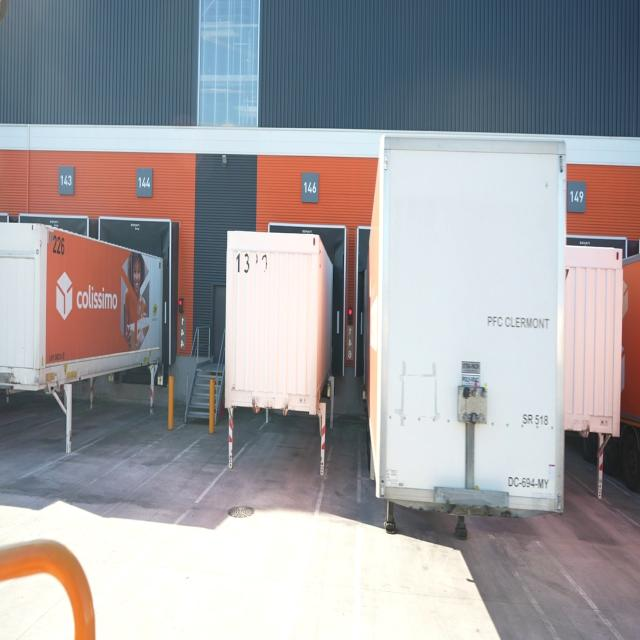Code: (230, 247, 276, 284), (49, 230, 66, 260)
